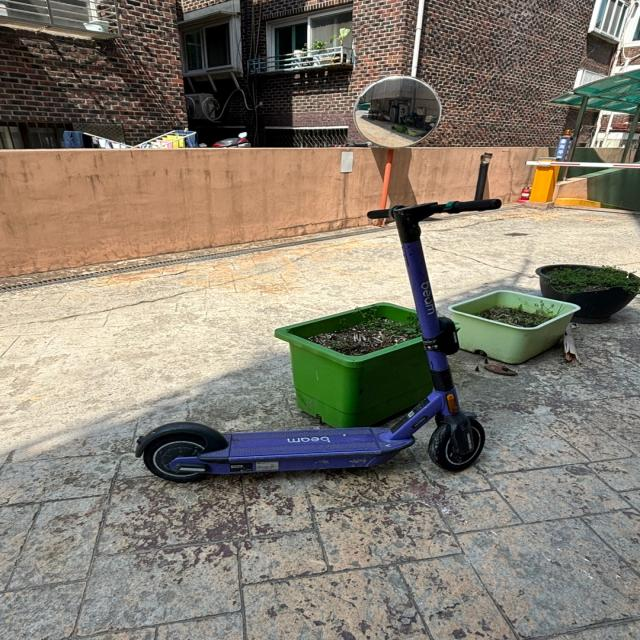kick-board: (137, 200, 500, 481)
sidewalk: (2, 225, 638, 640), (423, 205, 638, 312)
